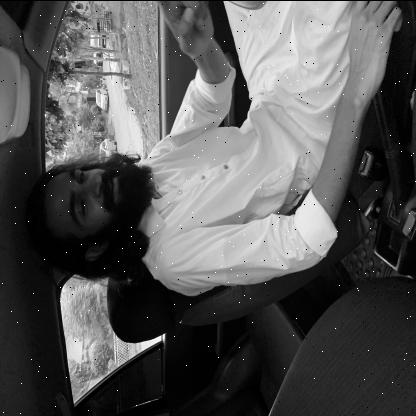no_seatbelt: (8, 111, 299, 271)
